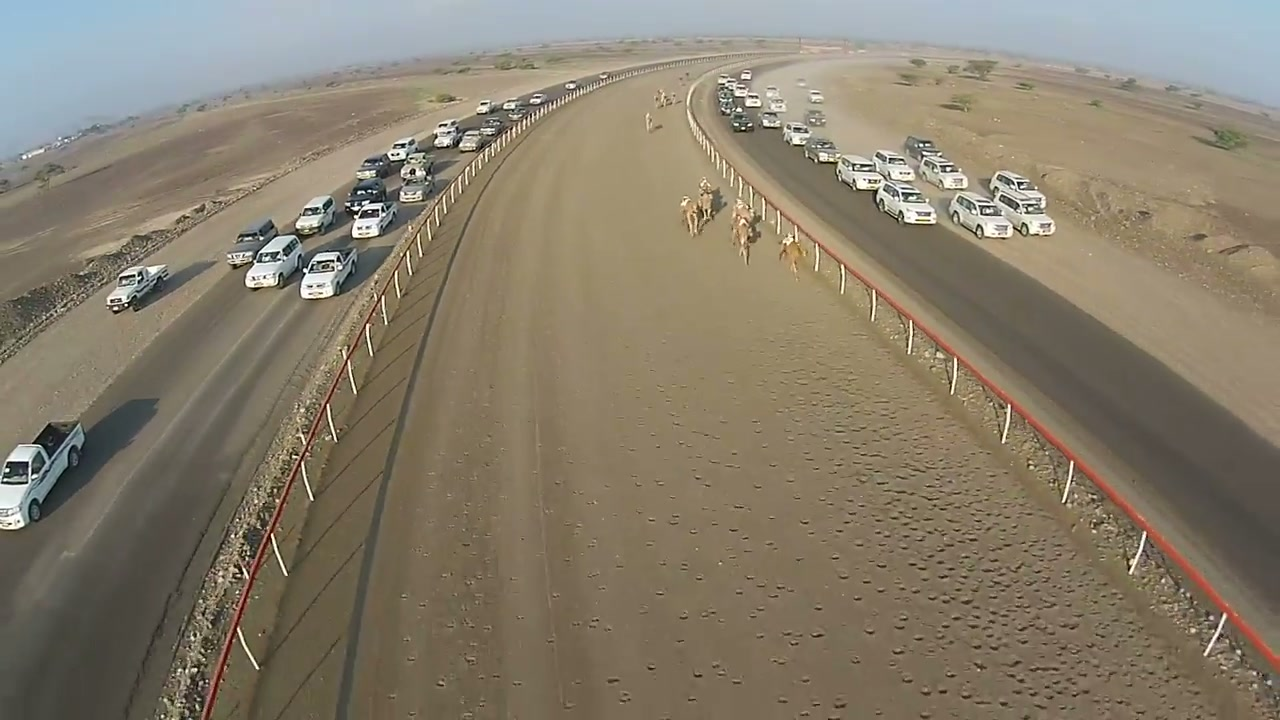animal_foot_print: (742, 262, 1220, 719), (653, 387, 870, 719)
